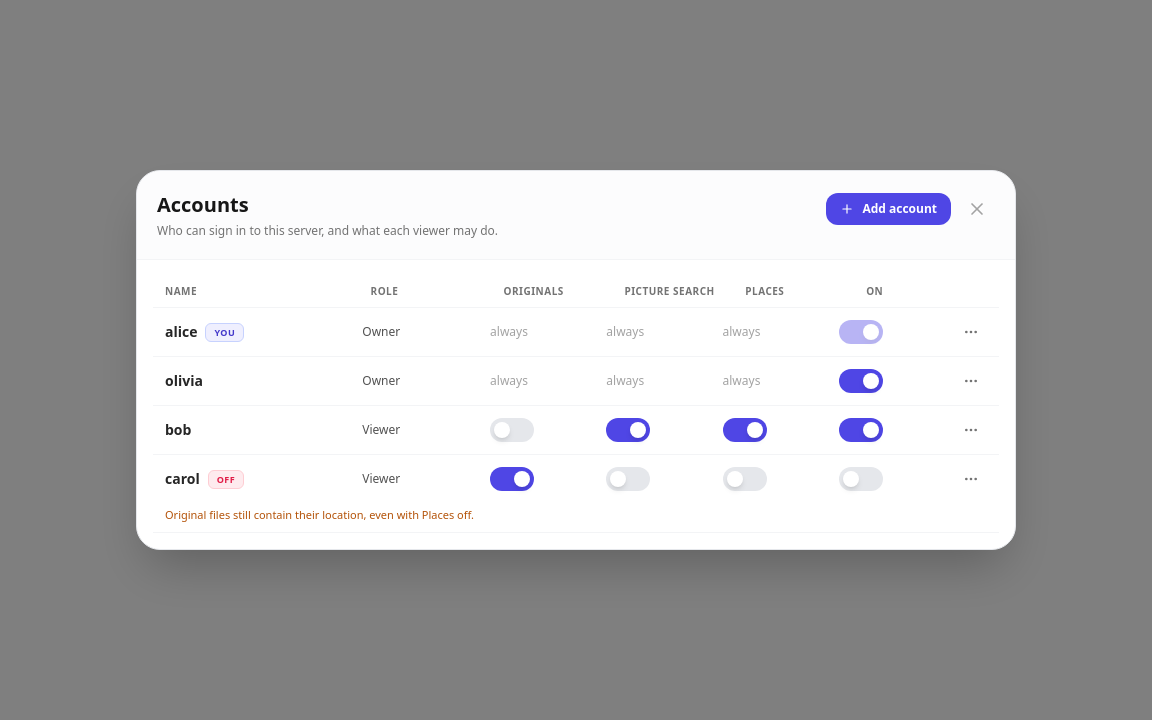
Test case: AccountsModal › giving a viewer access asks for the password › switching originals on
The image size is (1152, 720).
Expected: the table named "Accounts" is shown, [153,276,999,533]
Click the switch named "Open and download original files for bob" at (512, 430), box [490,418,534,442]
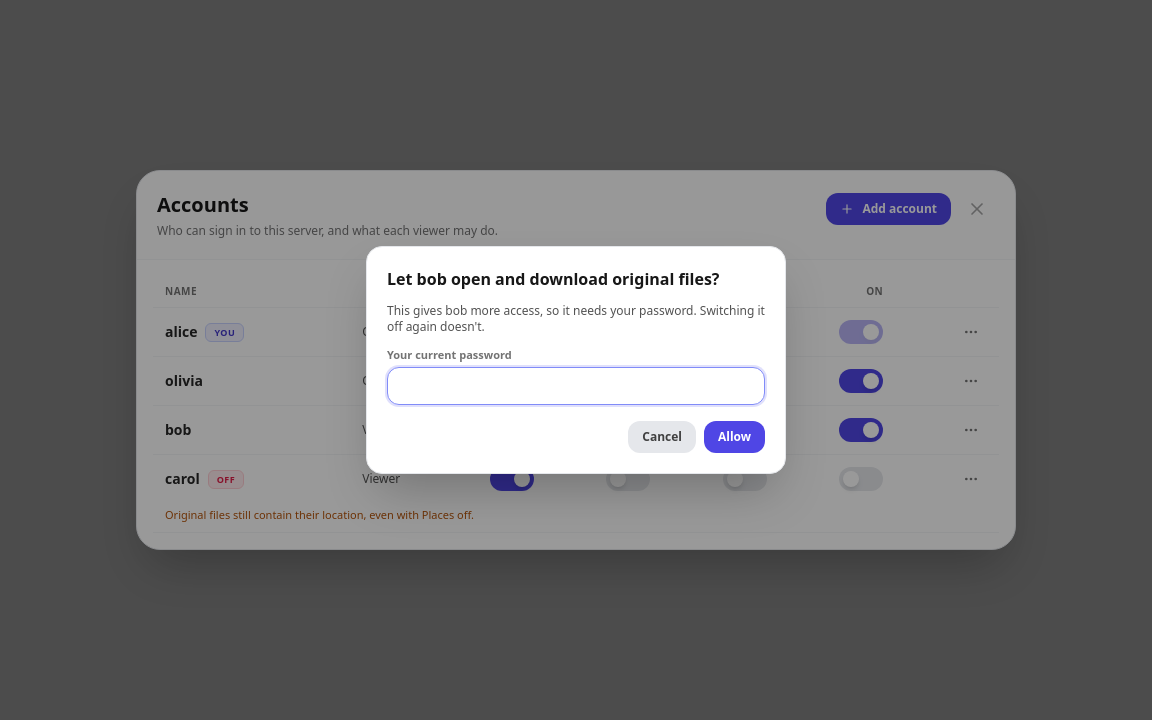
Click the button "Allow" at (734, 437), box [704,421,765,453]
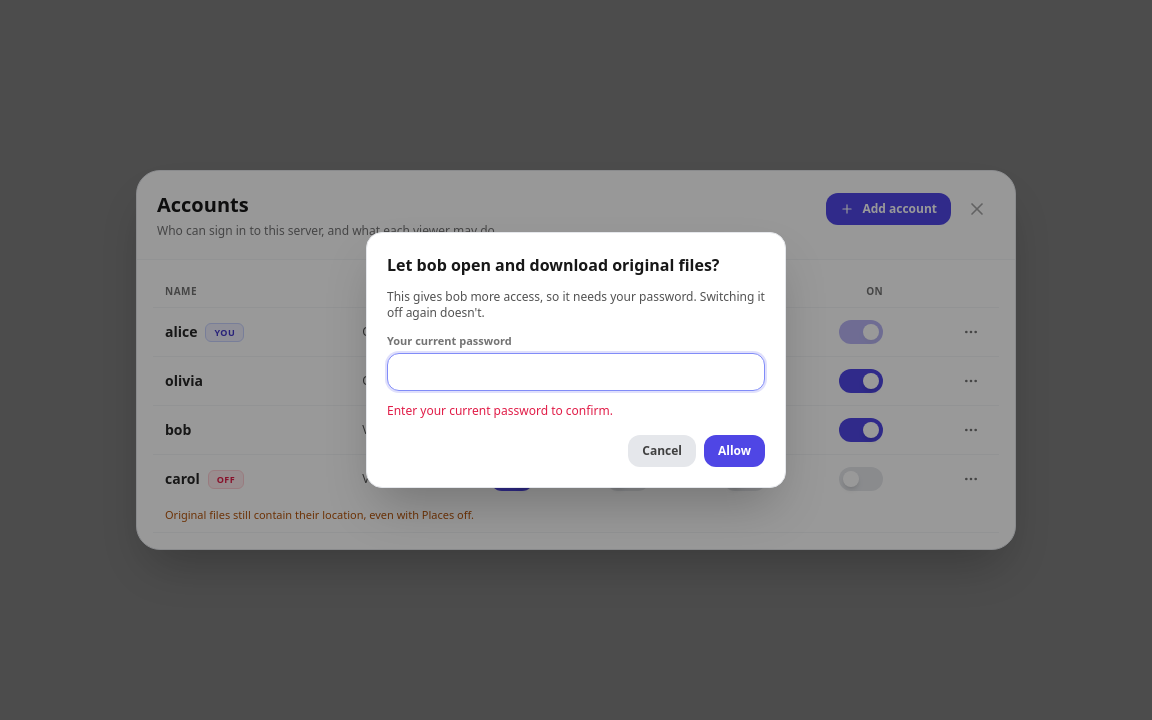
Expected: the message reads "Enter your current password to confirm.", [387,402,613,419]
Type "mine-1234" into the password field labelled "Your current password" at (576, 372), box [387,353,765,391]
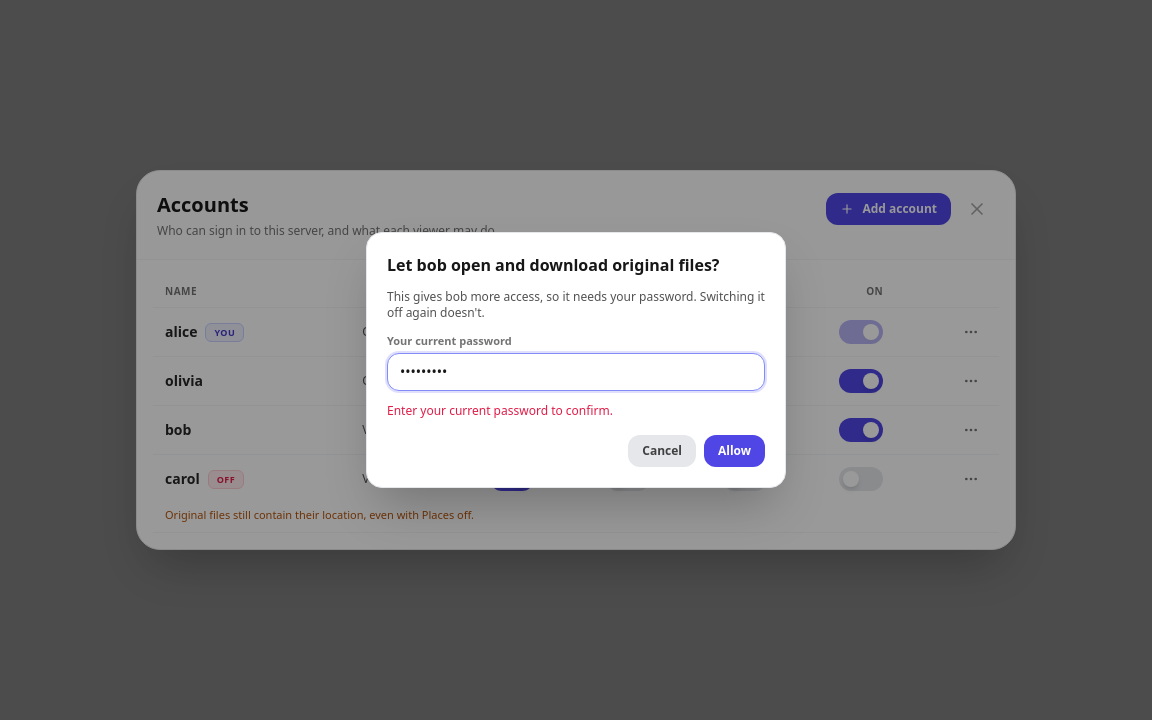
Click the button "Allow" at (734, 451), box [704,435,765,467]
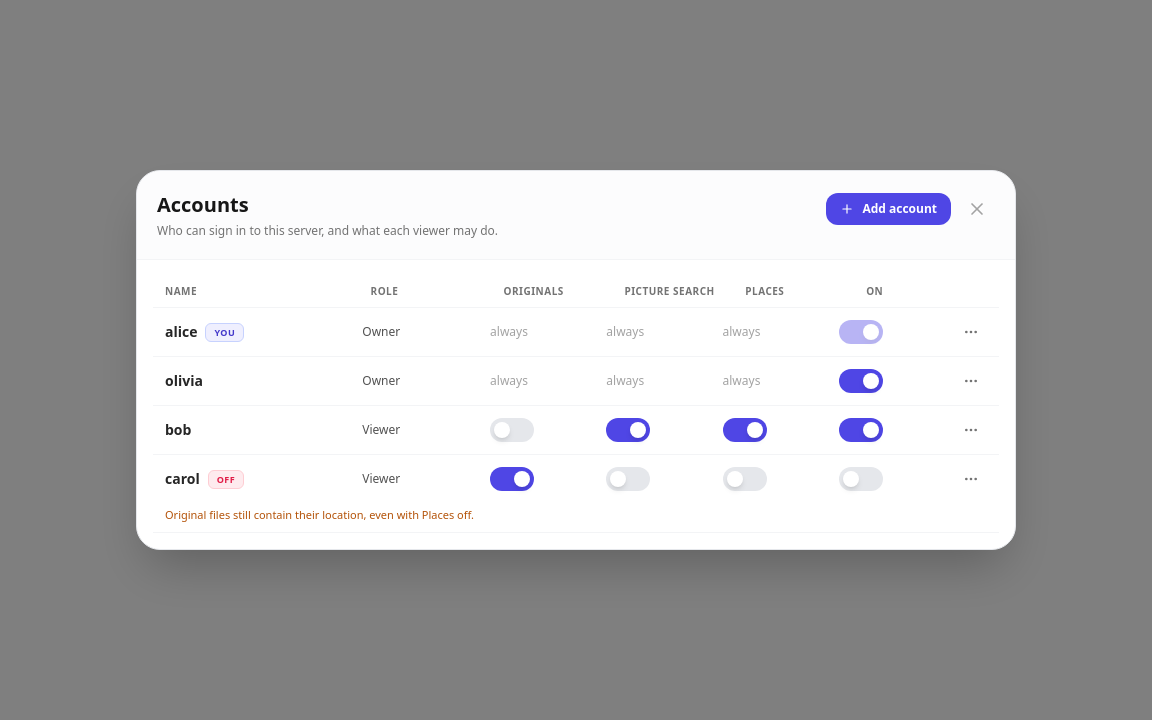
Expected: the heading "Let bob open and download original files?" is gone
